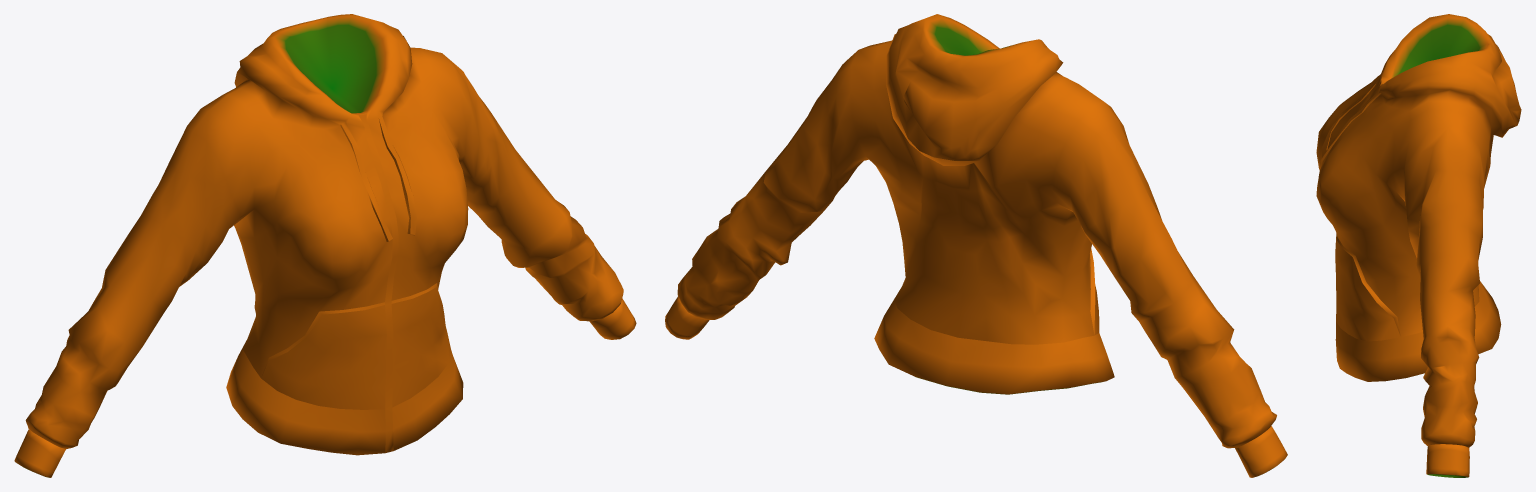
3 renders of one model, left to right at view 1: azimuth 30°, elevation 25°; view 2: azimuth 150°, elevation 25°; view 3: azimuth 270°, elevation 25°, orthographic. The views are drawn at different scales.
Visible parts, largest first — view 1: hash_4D049B3F.model; view 2: hash_4D049B3F.model; view 3: hash_4D049B3F.model.
Boxes of the visible parts, x1,y1,x2,y2 form: hash_4D049B3F.model: [14, 14, 636, 477]; hash_4D049B3F.model: [665, 14, 1287, 477]; hash_4D049B3F.model: [1316, 14, 1521, 477].
Size of the model in its own units: 1.05 by 0.6123 by 0.351.
